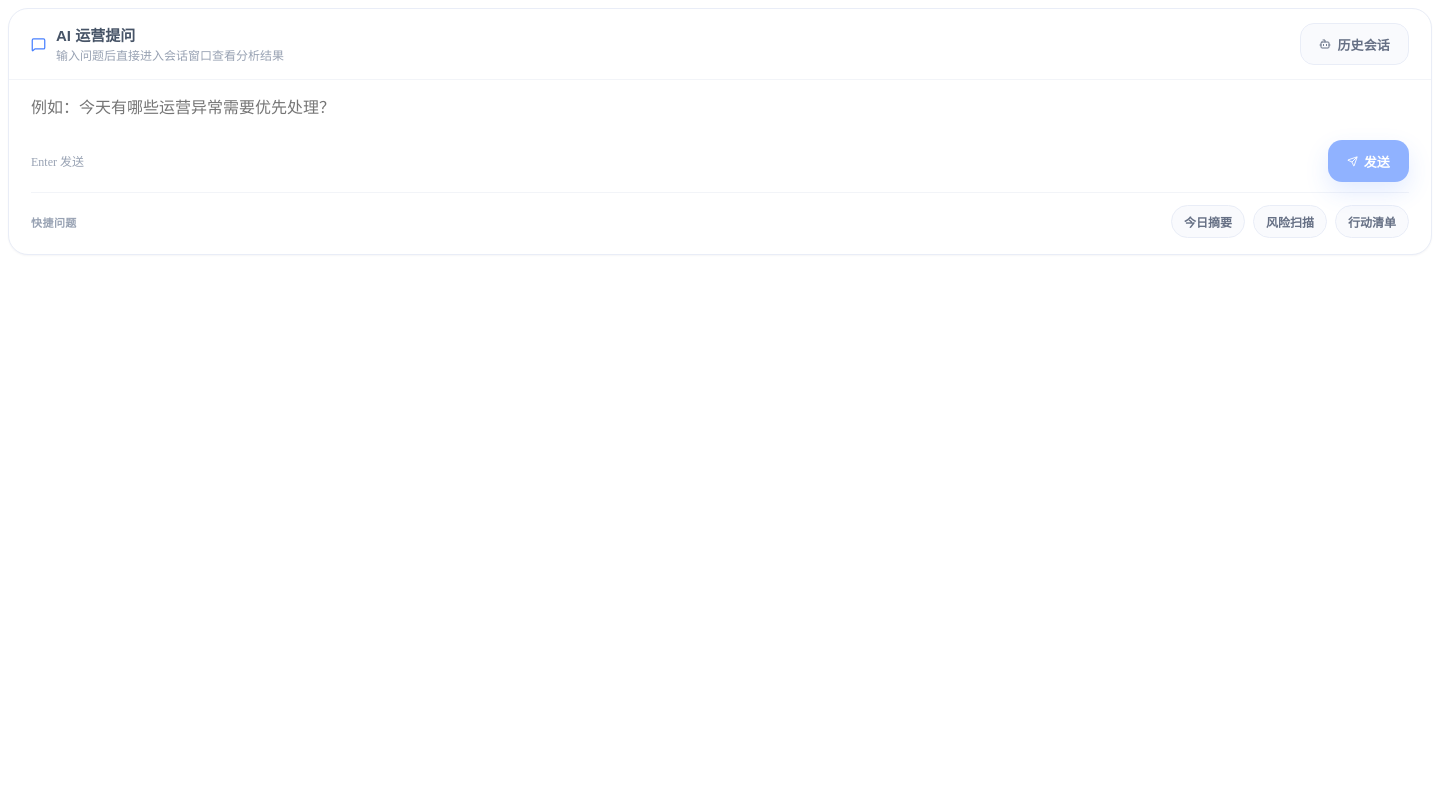
Test: DashboardAiAskPanel layout › 无历史会话时弹框空态展示引导和常用指令
Click the button "历史会话" at (1355, 44), box [1300, 23, 1409, 65]
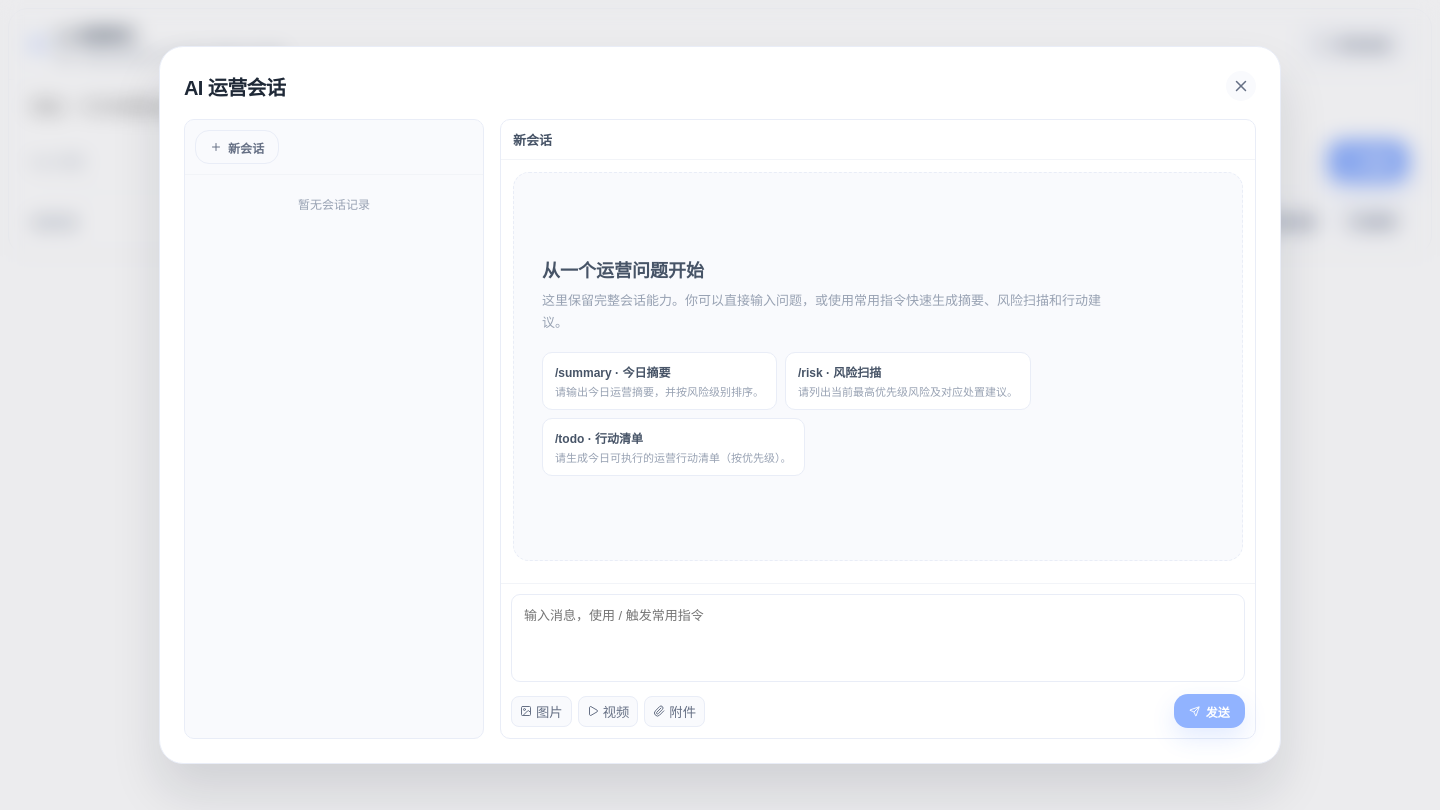
Expected: the text "从一个运营问题开始" is shown, [542, 261, 704, 281]
Expected: the text "/summary · 今日摘要" is shown, [555, 366, 670, 380]
